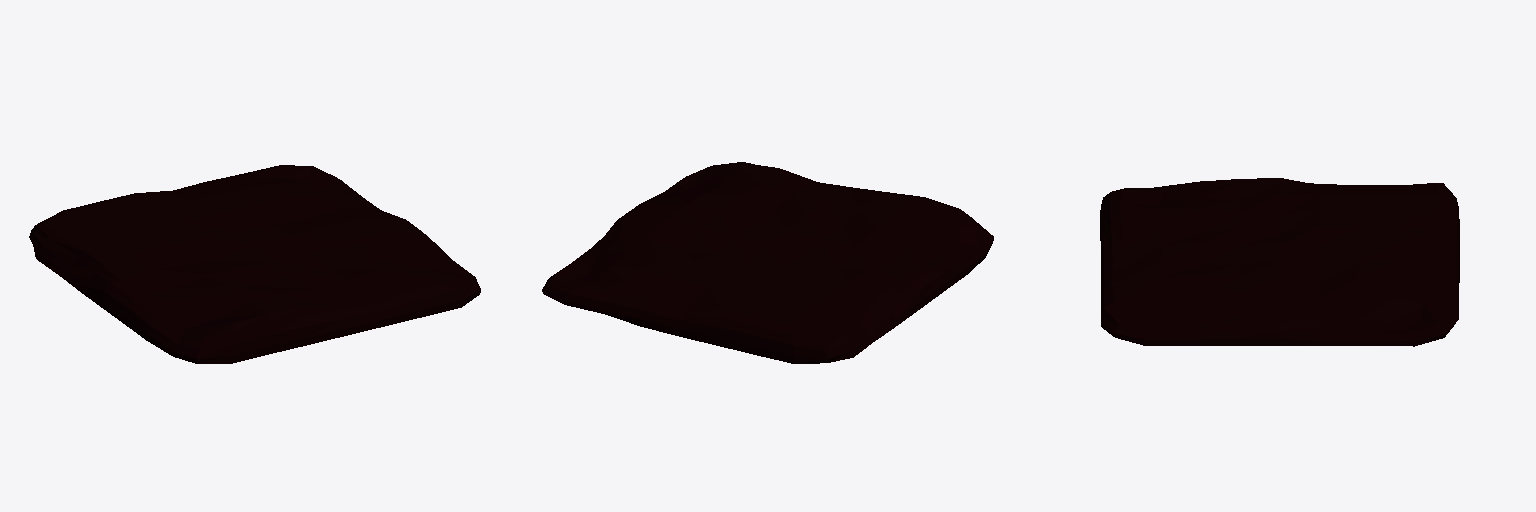
The model's file is soilTilled.obj.
3 renders of one model, left to right at view 1: azimuth 30°, elevation 25°; view 2: azimuth 150°, elevation 25°; view 3: azimuth 270°, elevation 25°, orthographic.
Parts seen in each view (by area): view 1: Plane; view 2: Plane; view 3: Plane.
Boxes of the visible parts, <box> form: Plane: <box>29,165,480,363</box>; Plane: <box>542,162,993,363</box>; Plane: <box>1100,178,1459,346</box>.
Size of the model in its own units: 0.9013 by 0.0979 by 0.9123.